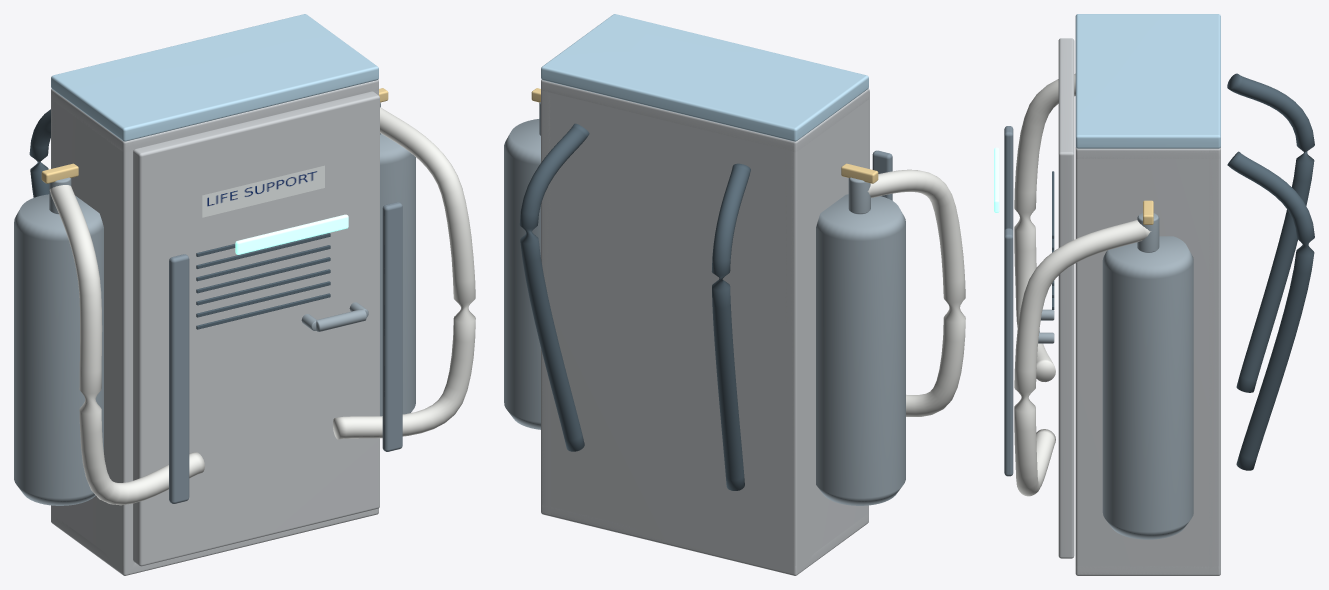
Rendered from life_support_pack.glb.
3 renders of one model, left to right at view 1: azimuth 30°, elevation 25°; view 2: azimuth 150°, elevation 25°; view 3: azimuth 270°, elevation 25°, orthographic.
Parts seen in each view (by area): view 1: PLSS_Service_Panel, PLSS_Top_2, Oxygen_Cylinder-1, PLSS_Left, PLSS_Hose1, PLSS_Hose-1, Oxygen_Cylinder1, Tank_Restraint_Strap, Tank_Restraint_Strap_2, PLSS_Top, PLSS_Tag, PLSS_Bottom (+9 smaller); view 2: PLSS_Rear, Oxygen_Cylinder-1, PLSS_Top_2, PLSS_Left, Oxygen_Cylinder1, PLSS_Hose-1, PLSS_Shoulder_Webbing1, PLSS_Shoulder_Webbing-1, PLSS_Top, PLSS_Right, PLSS_Bottom, Cylinder_Valve-1; view 3: PLSS_Right, Oxygen_Cylinder1, PLSS_Top_2, PLSS_Service_Panel, PLSS_Hose1, PLSS_Shoulder_Webbing1, PLSS_Shoulder_Webbing-1, PLSS_Hose-1, Tank_Restraint_Strap_2, PLSS_Rear, PLSS_Top, PLSS_Bottom (+2 smaller).
Part boxes in pixels (bbox=[...]): PLSS_Service_Panel: bbox=[133, 91, 379, 566]; PLSS_Top_2: bbox=[51, 14, 378, 141]; Oxygen_Cylinder-1: bbox=[14, 194, 103, 505]; PLSS_Left: bbox=[51, 93, 134, 574]; PLSS_Hose1: bbox=[332, 107, 475, 439]; PLSS_Hose-1: bbox=[49, 185, 204, 505]; Oxygen_Cylinder1: bbox=[380, 133, 415, 416]; Tank_Restraint_Strap: bbox=[169, 254, 189, 503]; Tank_Restraint_Strap_2: bbox=[382, 202, 402, 451]; PLSS_Top: bbox=[51, 79, 378, 151]; PLSS_Tag: bbox=[202, 165, 324, 217]; PLSS_Bottom: bbox=[51, 508, 378, 575]; PLSS_Rear: bbox=[542, 84, 801, 574]; Oxygen_Cylinder-1: bbox=[816, 194, 905, 505]; PLSS_Top_2: bbox=[541, 14, 868, 141]; PLSS_Left: bbox=[785, 91, 868, 573]; Oxygen_Cylinder1: bbox=[504, 119, 540, 429]; PLSS_Hose-1: bbox=[867, 169, 965, 416]; PLSS_Shoulder_Webbing1: bbox=[519, 123, 589, 451]; PLSS_Shoulder_Webbing-1: bbox=[711, 163, 750, 490]; PLSS_Top: bbox=[541, 79, 868, 151]; PLSS_Right: bbox=[541, 80, 550, 516]; PLSS_Bottom: bbox=[541, 504, 868, 575]; Cylinder_Valve-1: bbox=[848, 177, 870, 214]; PLSS_Right: bbox=[1075, 147, 1220, 574]; Oxygen_Cylinder1: bbox=[1102, 236, 1193, 539]; PLSS_Top_2: bbox=[1075, 14, 1220, 148]; PLSS_Service_Panel: bbox=[1058, 38, 1074, 558]; PLSS_Hose1: bbox=[1014, 220, 1151, 496]; PLSS_Shoulder_Webbing1: bbox=[1227, 151, 1314, 470]; PLSS_Shoulder_Webbing-1: bbox=[1227, 73, 1314, 392]; PLSS_Hose-1: bbox=[1014, 73, 1075, 381]; Tank_Restraint_Strap_2: bbox=[1004, 228, 1013, 476]; PLSS_Rear: bbox=[1209, 148, 1218, 575]; PLSS_Top: bbox=[1075, 147, 1220, 158]; PLSS_Bottom: bbox=[1075, 565, 1220, 575].
Size of the model in its own units: 0.7371 by 0.8025 by 0.5295.
Materials: 11 (1 with a texture image).
